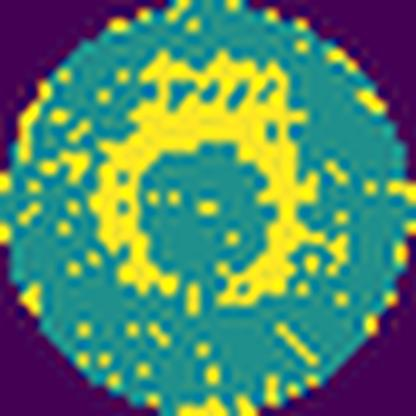Donut: (88, 47, 326, 311)
